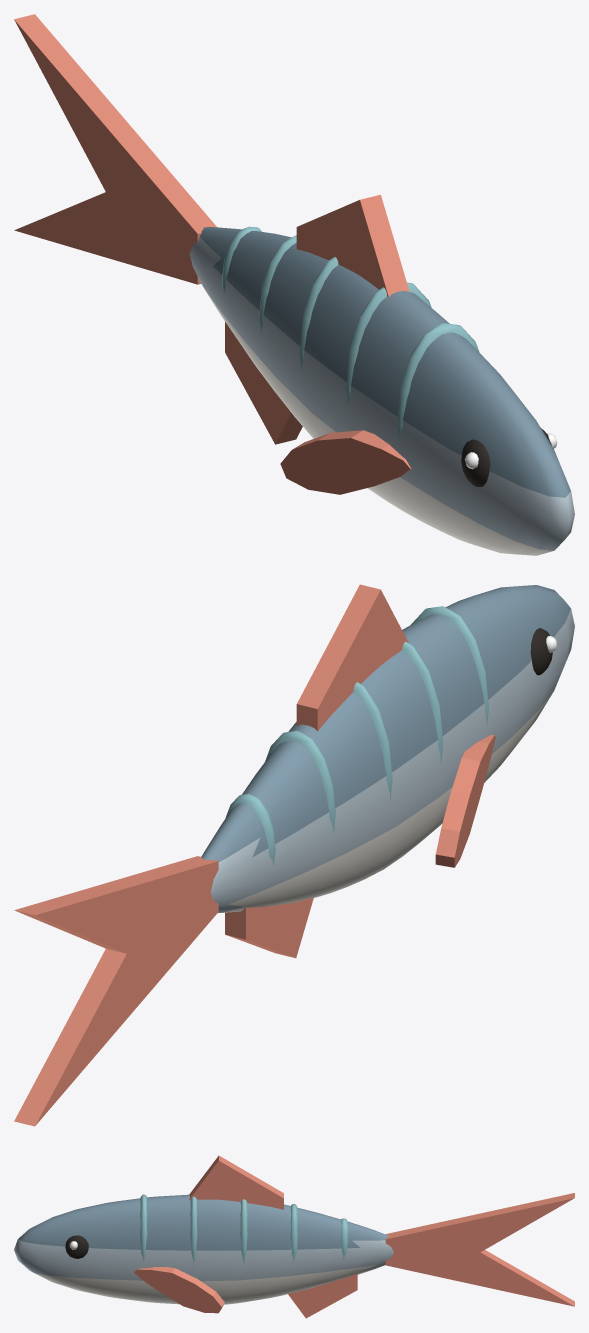
The model's file is fish-pale-chub.glb.
The picture shows the model from 3 angles, top to bottom: view 1: azimuth 30°, elevation 25°; view 2: azimuth 150°, elevation 25°; view 3: azimuth 270°, elevation 25°; orthographic projection. The views are drawn at different scales.
Parts seen in each view (by area): view 1: fish; view 2: fish; view 3: fish.
Boxes of the visible parts, x1,y1,x2,y2 form: fish: (14, 14, 574, 555); fish: (14, 584, 574, 1126); fish: (14, 1155, 574, 1318).
Size of the model in its own units: 0.0499 by 0.0839 by 0.27.
